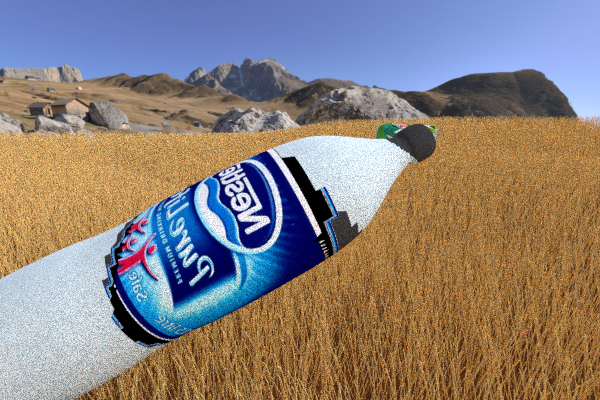bottle: (0, 121, 425, 400)
can: (525, 126, 600, 198), (362, 119, 394, 136)
